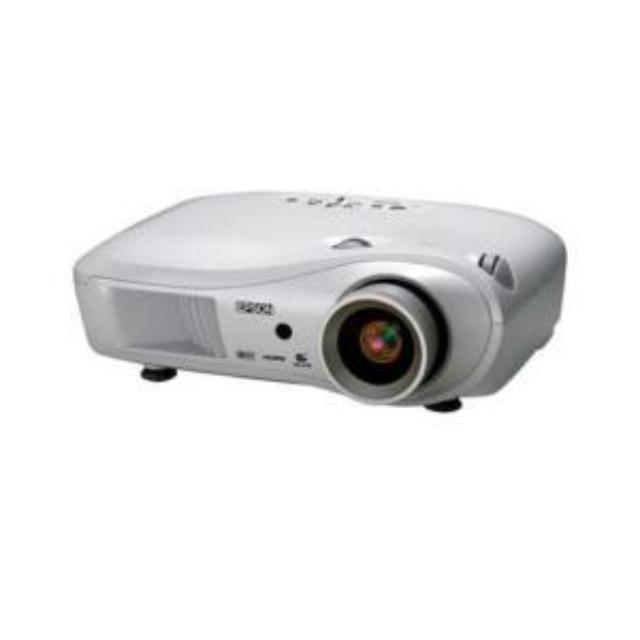Projector: (67, 188, 570, 412)
